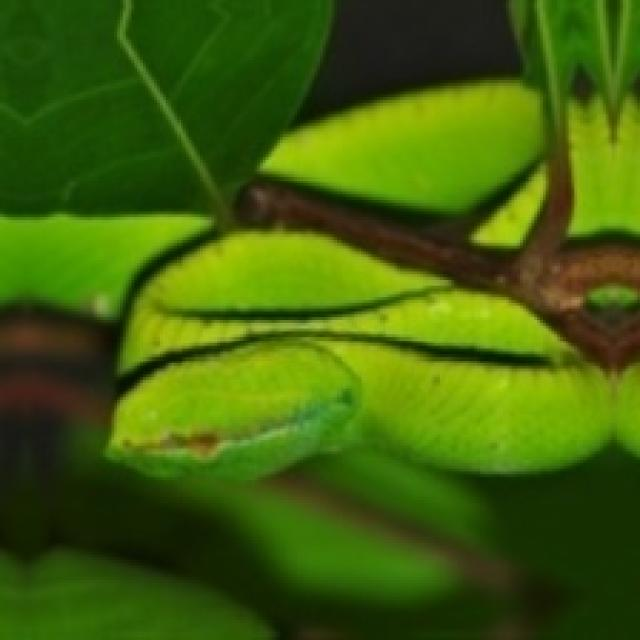north ph temple pitviper: (109, 0, 637, 474)
